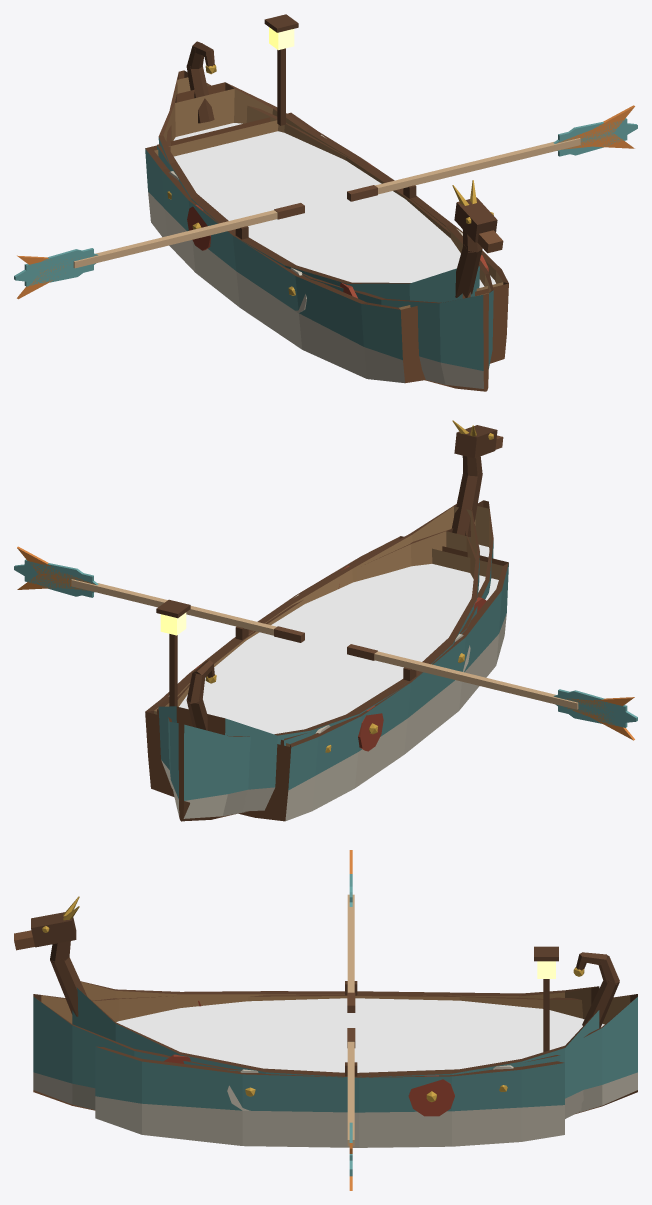
File: boat.glb
The picture shows the model from 3 angles, top to bottom: view 1: azimuth 30°, elevation 25°; view 2: azimuth 150°, elevation 25°; view 3: azimuth 270°, elevation 25°; orthographic projection.
Visible parts, largest first — view 1: skin_hull_punt, water_mask, skin_hull_drakkar, skin_hull_canoe, water_mask.002, water_mask.003, skin_oars_classic.001, skin_hull_classic, skin_oars_classic, water_mask.001, skin_oars_fishtail, skin_oars_leaf.001 (+1 smaller); view 2: skin_hull_punt, water_mask.002, water_mask, skin_hull_drakkar, skin_hull_canoe, water_mask.003, water_mask.001, skin_hull_classic, skin_oars_classic.001, skin_oars_classic, skin_oars_fishtail, skin_oars_leaf.001 (+2 smaller); view 3: skin_hull_punt, water_mask.002, skin_hull_canoe, skin_hull_drakkar, water_mask.001, skin_hull_classic, water_mask, skin_oars_classic, skin_oars_classic.001.
Boxes of the visible parts, left/top/right/bottom form: skin_hull_punt: left=145, top=112, right=508, bottom=383; water_mask: left=174, top=132, right=460, bottom=282; skin_hull_drakkar: left=158, top=41, right=503, bottom=313; skin_hull_canoe: left=166, top=14, right=493, bottom=391; water_mask.002: left=212, top=131, right=495, bottom=286; water_mask.003: left=173, top=123, right=460, bottom=266; skin_oars_classic.001: left=24, top=203, right=304, bottom=286; skin_hull_classic: left=157, top=117, right=452, bottom=286; skin_oars_classic: left=347, top=118, right=627, bottom=201; water_mask.001: left=178, top=123, right=483, bottom=287; skin_oars_fishtail: left=558, top=105, right=634, bottom=149; skin_oars_leaf.001: left=14, top=249, right=98, bottom=283; skin_hull_punt: left=145, top=536, right=508, bottom=821; water_mask.002: left=216, top=567, right=498, bottom=734; water_mask: left=214, top=564, right=473, bottom=732; skin_hull_drakkar: left=158, top=420, right=503, bottom=812; skin_hull_canoe: left=156, top=500, right=493, bottom=821; water_mask.003: left=179, top=565, right=468, bottom=733; water_mask.001: left=206, top=544, right=489, bottom=729; skin_hull_classic: left=157, top=528, right=476, bottom=745; skin_oars_classic.001: left=347, top=644, right=627, bottom=727; skin_oars_classic: left=24, top=559, right=304, bottom=642; skin_oars_fishtail: left=17, top=546, right=94, bottom=590; skin_oars_leaf.001: left=553, top=690, right=637, bottom=723; skin_hull_punt: left=95, top=1046, right=564, bottom=1147; water_mask.002: left=119, top=999, right=564, bottom=1072; skin_hull_canoe: left=33, top=946, right=637, bottom=1113; skin_hull_drakkar: left=14, top=896, right=619, bottom=1118; water_mask.001: left=116, top=1000, right=604, bottom=1071; skin_hull_classic: left=92, top=991, right=560, bottom=1077; water_mask: left=120, top=998, right=504, bottom=1024; skin_oars_classic: left=347, top=1028, right=355, bottom=1176; skin_oars_classic.001: left=347, top=892, right=355, bottom=1012.
Bounding box in the file's own units: 4.6 × 1.53 × 4.03.
